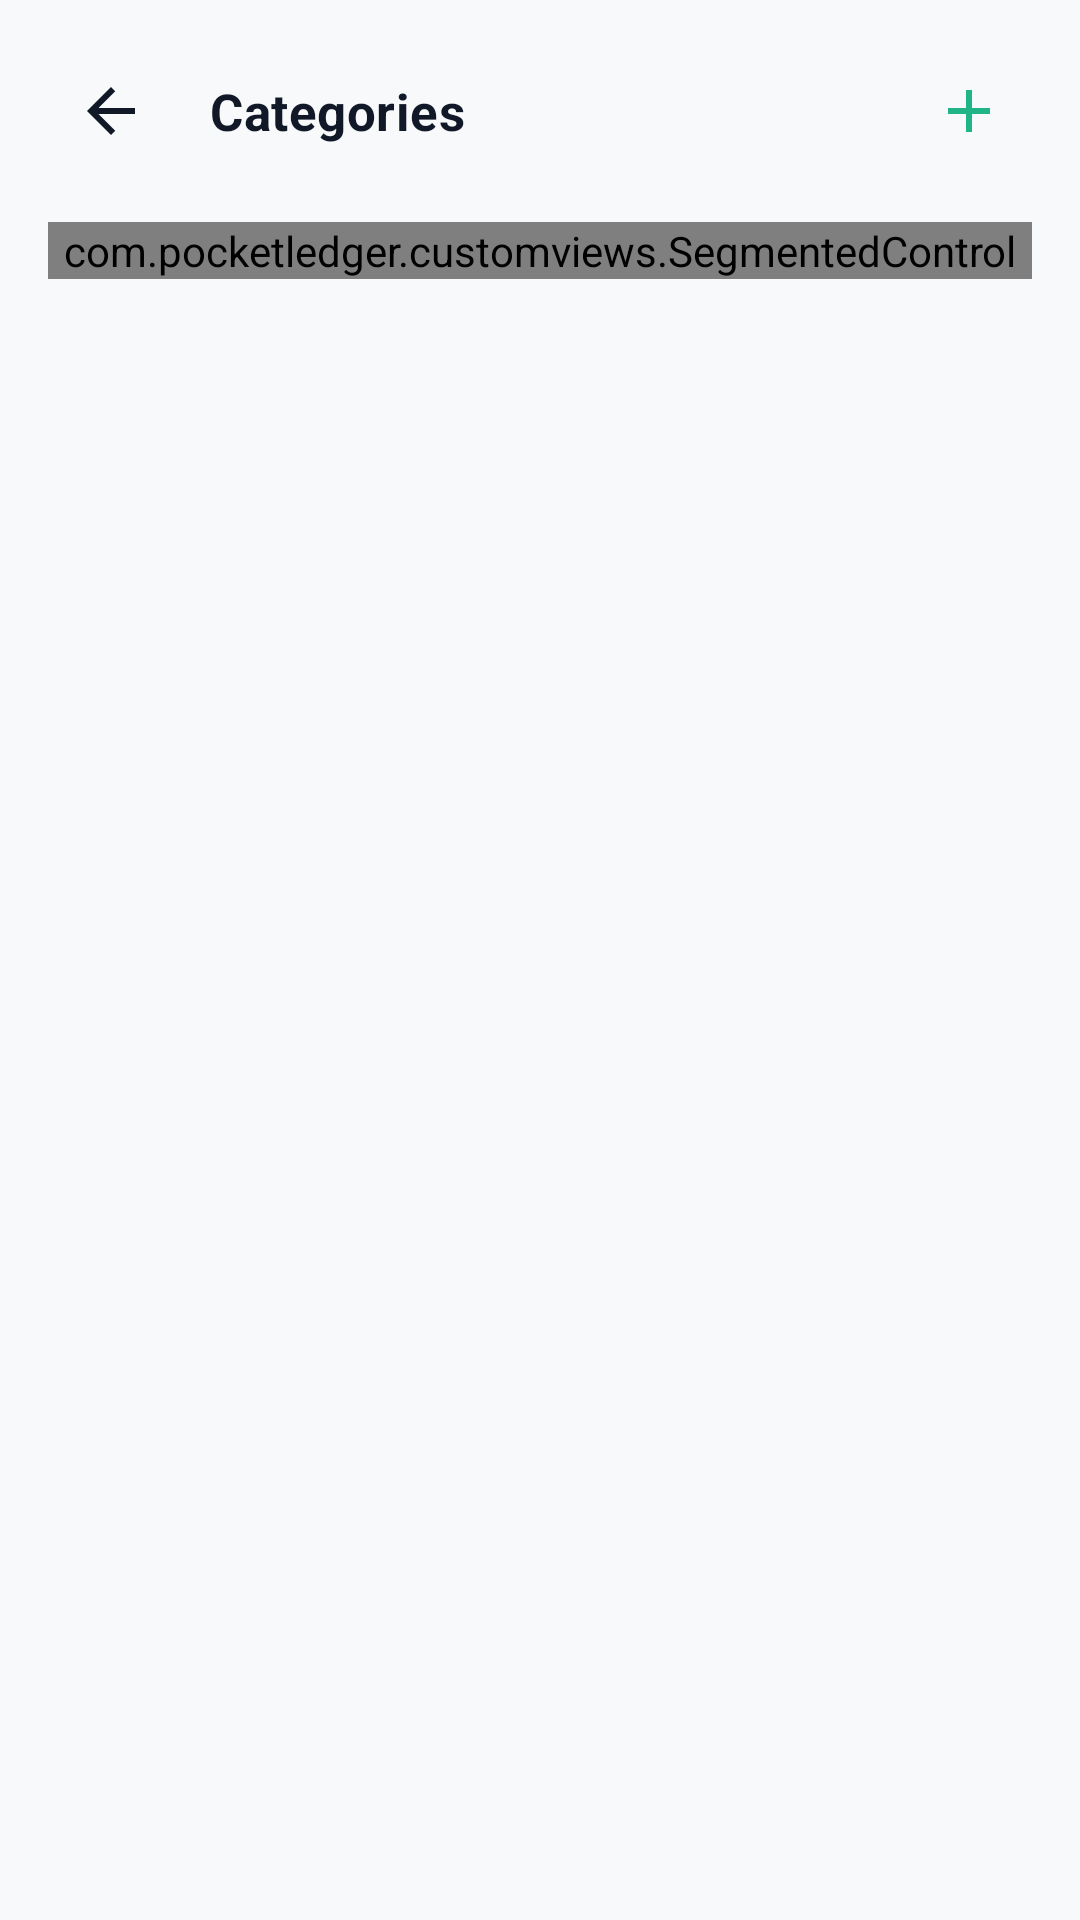

Where to tap for icons on this 1080w x 1920h app screen, as (x=x, y=y):
Back: (x=111, y=111)
New category: (x=969, y=111)
